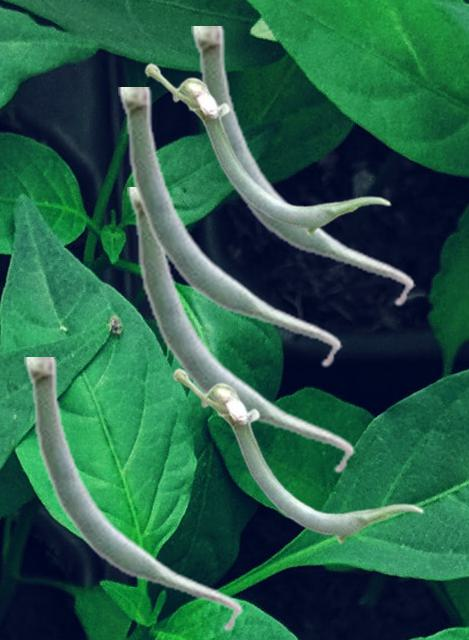french_bean: (127, 187, 354, 474), (118, 87, 341, 368), (191, 26, 414, 307), (24, 357, 242, 632), (172, 367, 423, 543), (144, 62, 390, 235)
